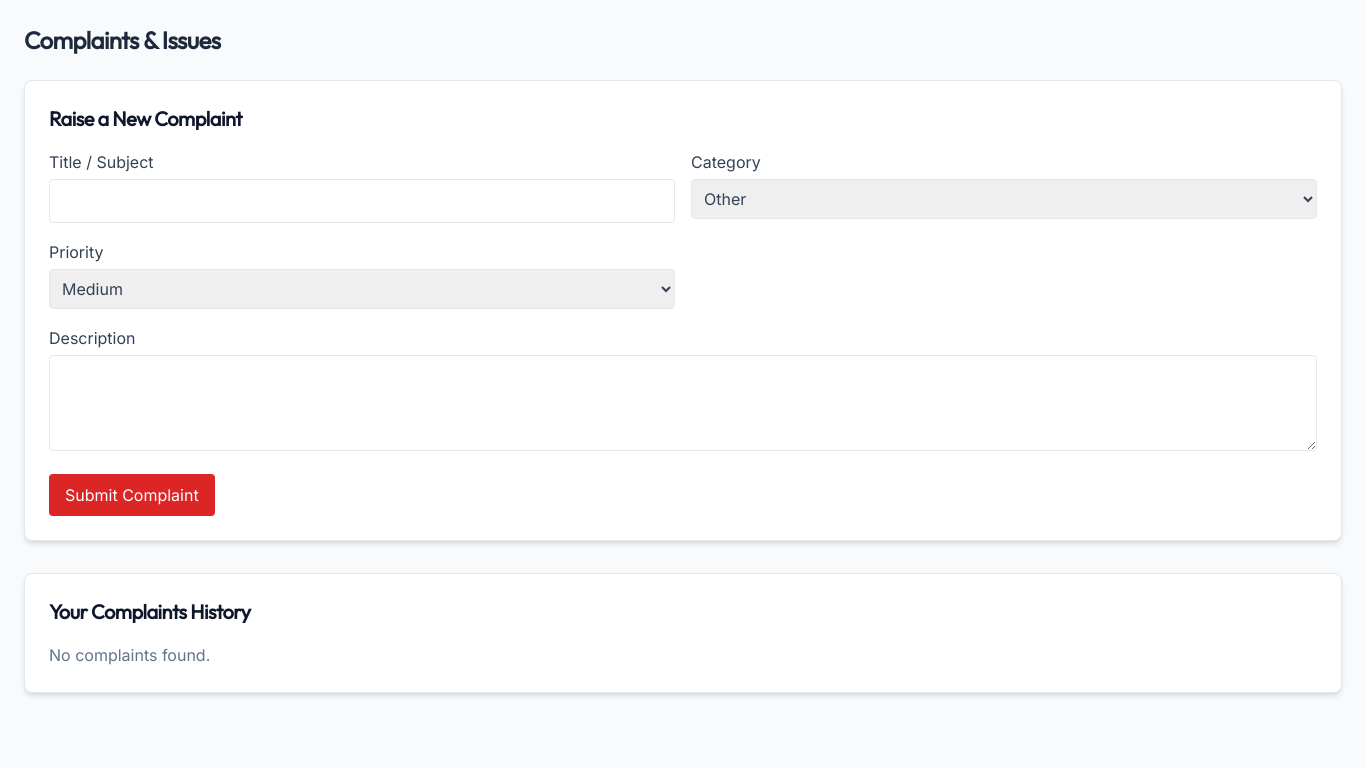
Tenant Complaints Component › tenant can submit a new complaint successfully
# Fill in the form
Type "Broken Tap" into the field labelled "Title / Subject" at [362, 201], box left=49, top=179, right=675, bottom=223
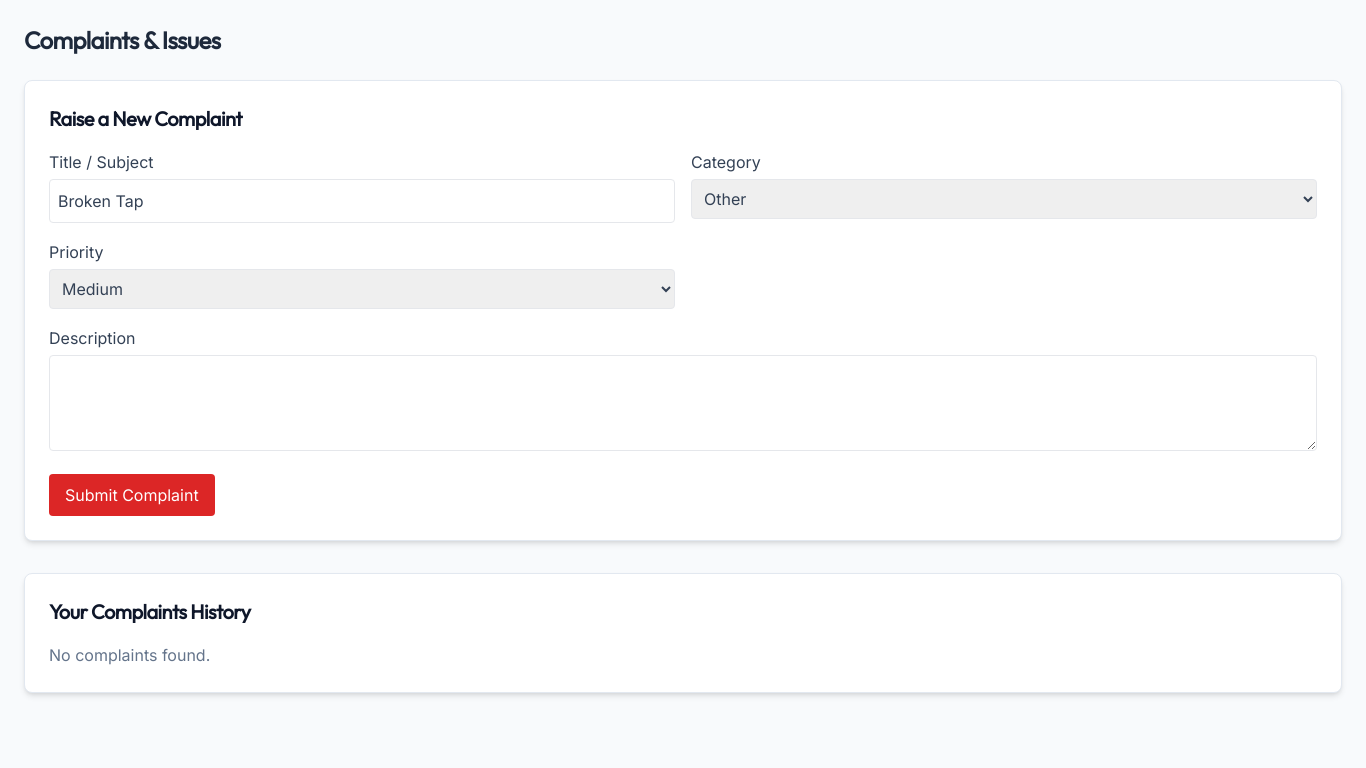
Type "The tap in the bathroom is broken." into the text box labelled "Description" at [683, 403], box left=49, top=355, right=1317, bottom=451
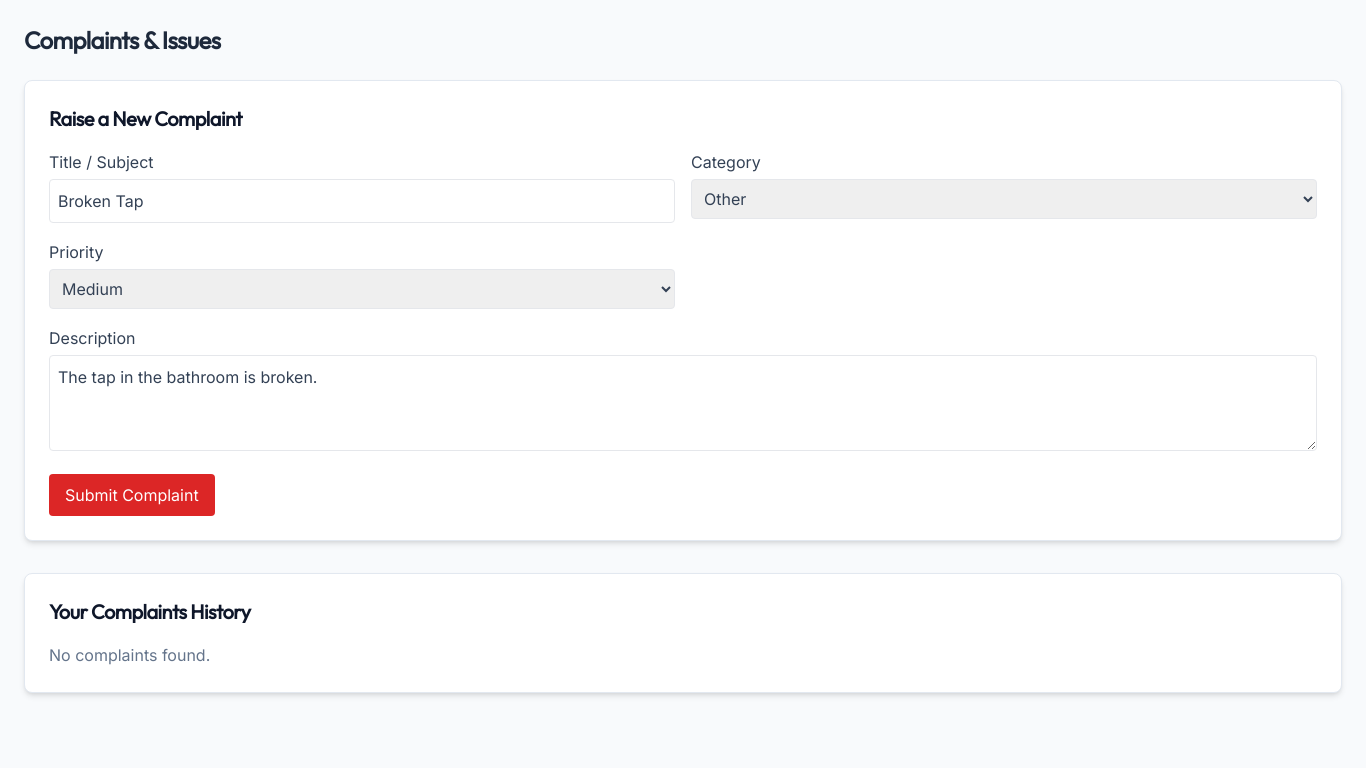
Click the button "Submit Complaint" at [132, 495], box left=49, top=474, right=215, bottom=516
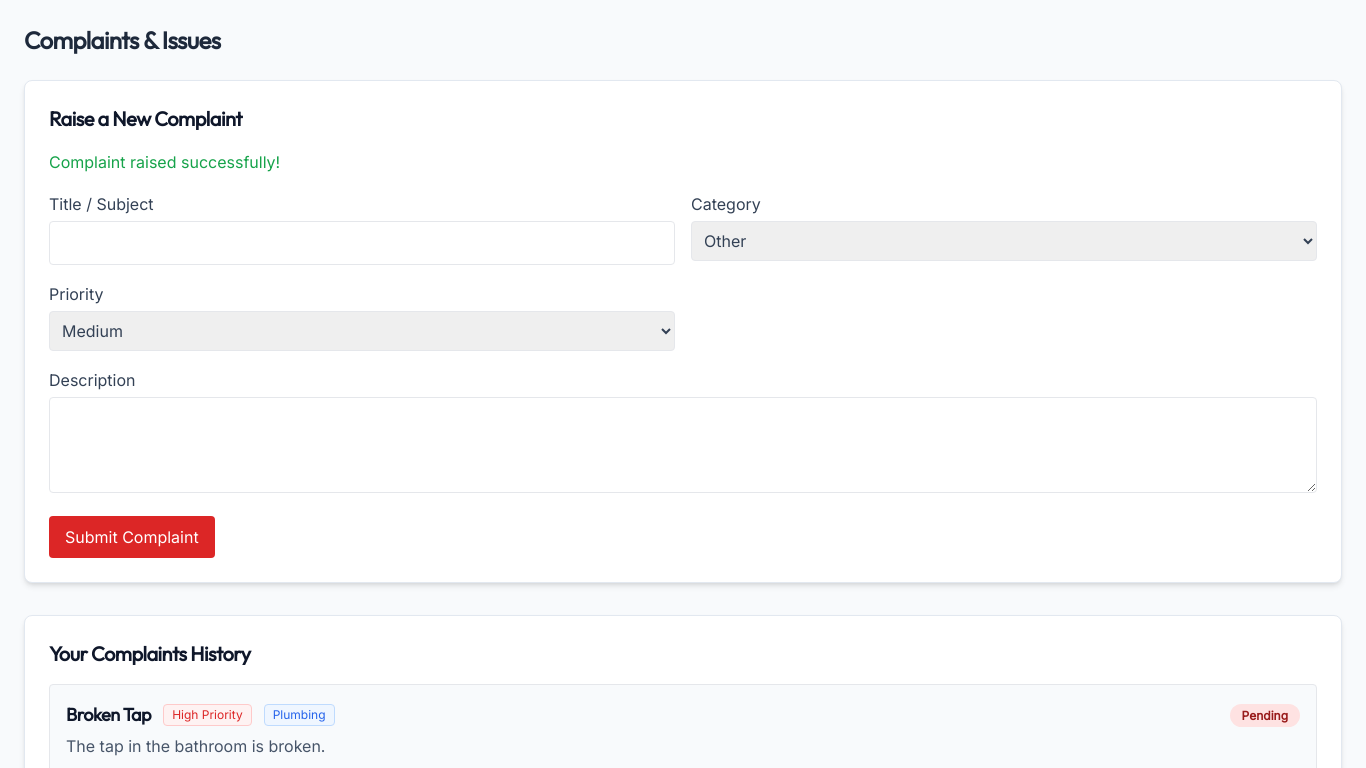
Expected: the text "Complaint raised successfully!" is shown, left=49, top=152, right=280, bottom=172
